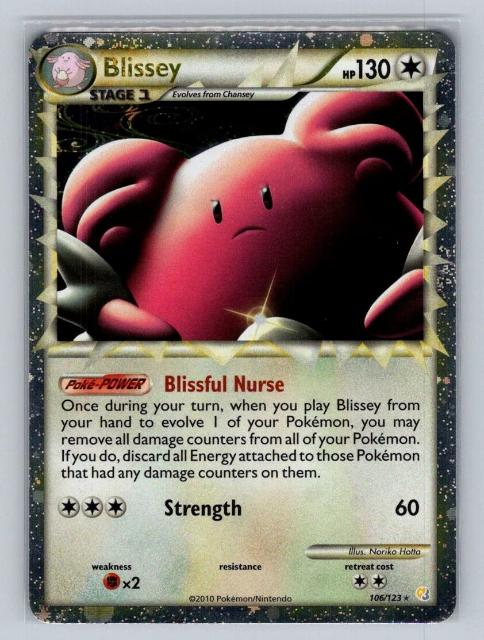Card: (24, 25, 461, 627)
Name: (101, 51, 188, 88)
